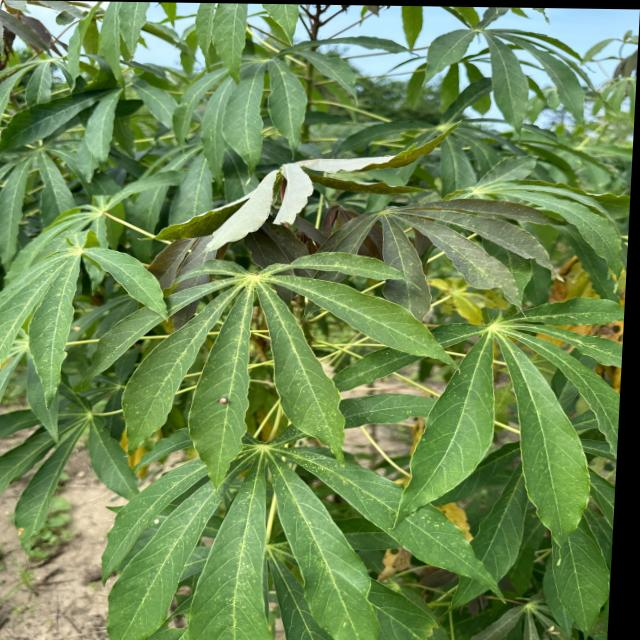Mosca: (145, 514, 169, 536), (211, 393, 234, 412), (62, 321, 83, 337)
